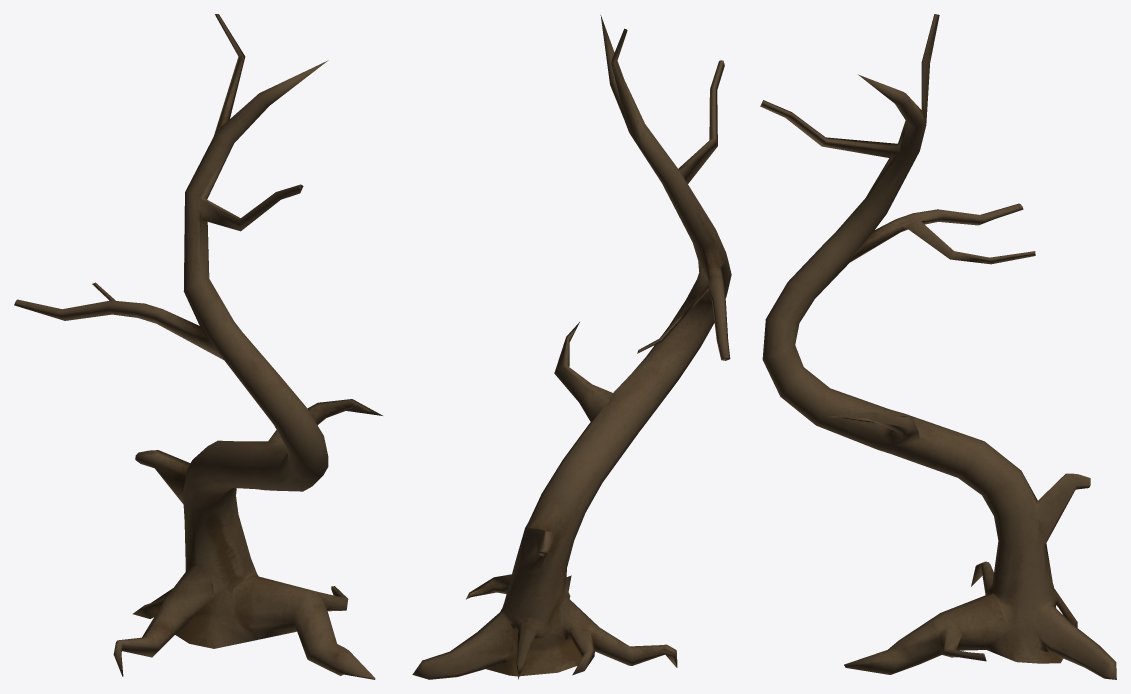
Rendered from deadTree_001.fbx.
3 views of the same model, side by side, from view 1: azimuth 30°, elevation 25°; view 2: azimuth 150°, elevation 25°; view 3: azimuth 270°, elevation 25° (orthographic). The views are drawn at different scales.
Parts seen in each view (by area): view 1: deadTree_001; view 2: deadTree_001; view 3: deadTree_001.
Part boxes in pixels (x1,y1,x2,y2): deadTree_001: [14, 14, 382, 679]; deadTree_001: [412, 15, 731, 679]; deadTree_001: [760, 14, 1116, 679].
Bounding box in the file's own units: 39.56 × 83.11 × 43.75.
Materials: 1 (1 with a texture image).
